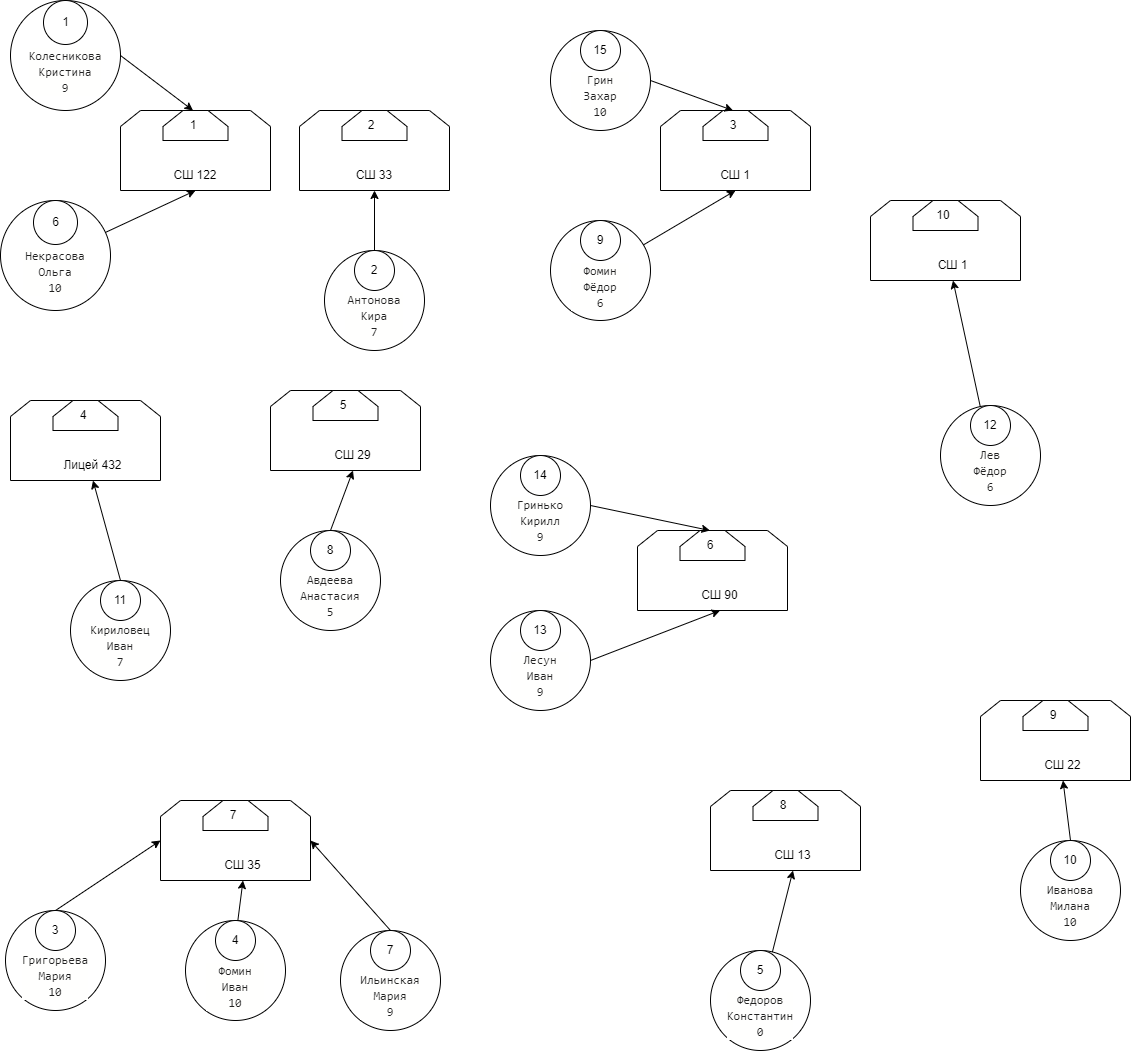

Layout of this report page (visuals, bound fields, positions):
{"tool":"powerbi","page":{"name":"Schools","canvas":[1280,720],"ordinal":1},"visuals":[{"type":"ForceGraph1449359463895","fields":{"Source":["School.Groupmate"],"Target":["School.School"],"Weight":["Sum(School.rating)"],"SourceType":["School.Person image name"],"TargetType":["School.School image name"]},"box":[0,0,1280,720],"z":0}]}

Visuals, with their boxes on the page's 1280x720 design canvas (x1, y1, x2, y2). These are canvas units, not pixel positions in the 1131x1051 screenshot, which may show the page scaled, cropped or inside an application window:
ForceGraph1449359463895 - School.Groupmate x School.School: box(0, 0, 1280, 720)
